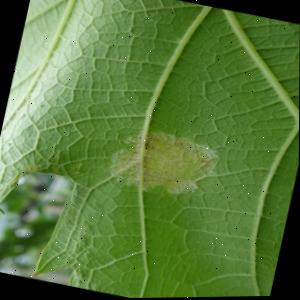Folha: (0, 0, 300, 300)
Fungo: (102, 120, 223, 204)
